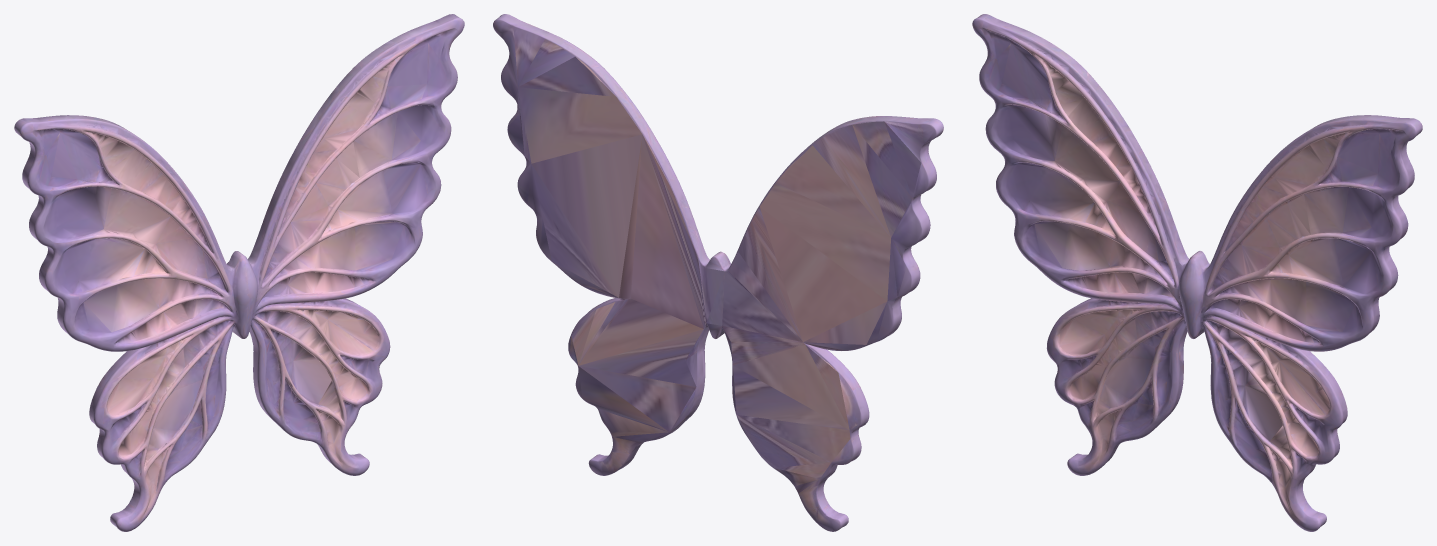
The picture shows the model from 3 angles, left to right: view 1: azimuth 30°, elevation 25°; view 2: azimuth 150°, elevation 25°; view 3: azimuth 330°, elevation 25°; orthographic projection.
Bounding box in the file's own units: 1.9 × 1.77 × 0.1071.
1 material, 1 textured.
